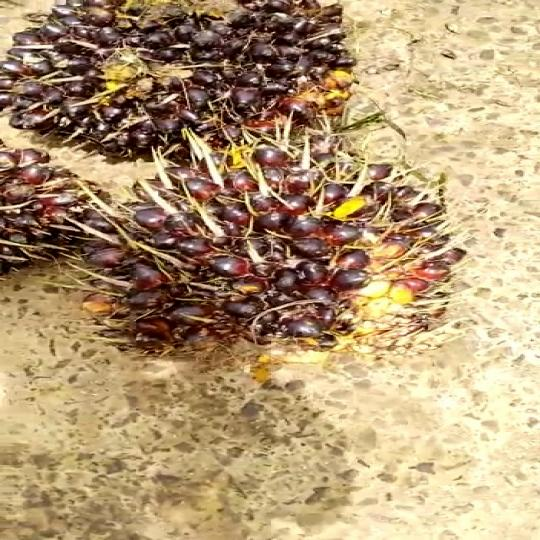kurang masak: (82, 127, 495, 387), (0, 0, 377, 169)
